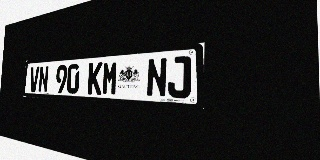0: (66, 64, 80, 94)
9: (55, 64, 68, 93)
J: (167, 56, 191, 99)
K: (87, 62, 103, 95)
M: (102, 61, 118, 96)
N: (146, 57, 167, 98), (38, 66, 49, 93)
V: (29, 66, 39, 92)
